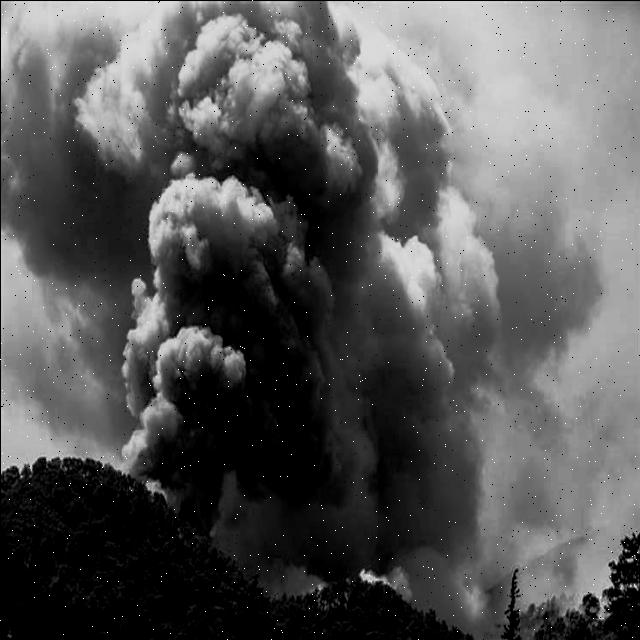asap: (7, 1, 613, 471), (217, 459, 589, 598)
